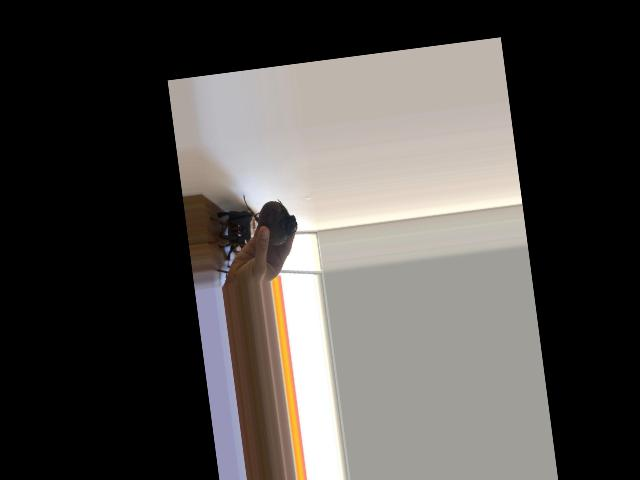beet: (242, 185, 299, 248)
